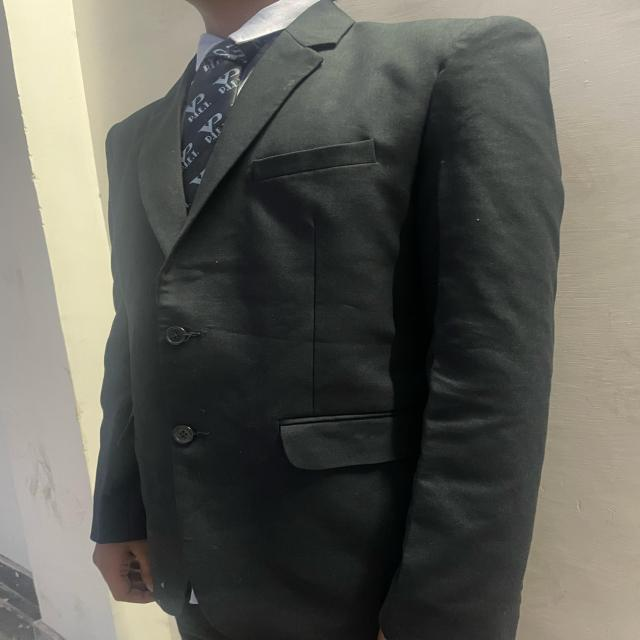Tie: (179, 30, 282, 212)
uniform: (90, 1, 564, 639)
